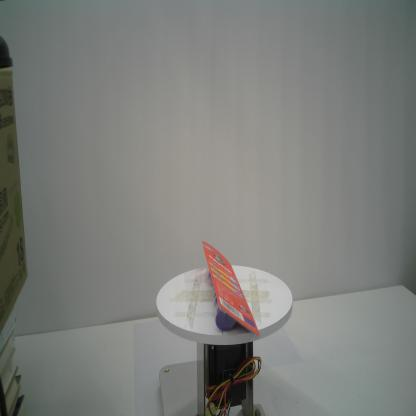Personal Hygiene: (202, 240, 260, 336)
